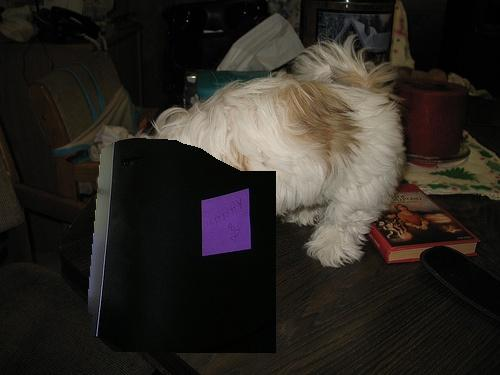tampered: (88, 139, 276, 353)
